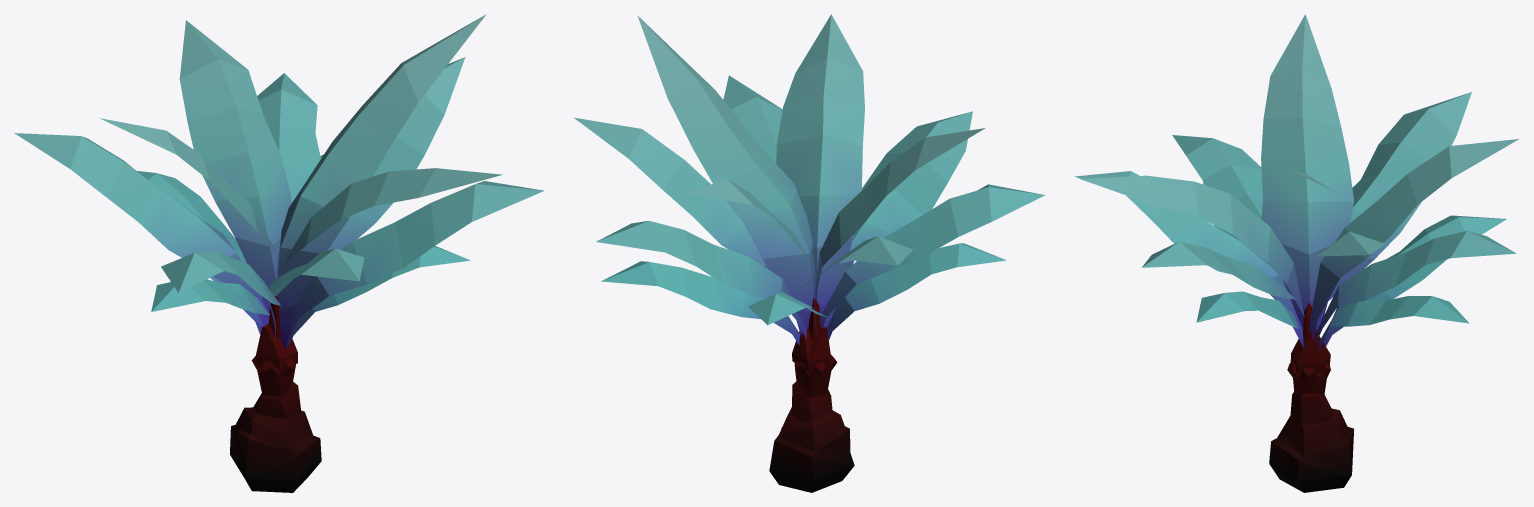
File: SM_Env_Bush_Palm_02.glb
3 views of the same model, side by side, from view 1: azimuth 30°, elevation 25°; view 2: azimuth 150°, elevation 25°; view 3: azimuth 270°, elevation 25° (orthographic). The views are drawn at different scales.
Parts seen in each view (by area): view 1: SM_Env_Bush_Palm_02_LOD0; view 2: SM_Env_Bush_Palm_02_LOD0; view 3: SM_Env_Bush_Palm_02_LOD0.
Part boxes in pixels (box(x1,y1,x2,y2)): SM_Env_Bush_Palm_02_LOD0: box(14, 14, 544, 492); SM_Env_Bush_Palm_02_LOD0: box(574, 14, 1045, 492); SM_Env_Bush_Palm_02_LOD0: box(1074, 14, 1518, 492).
Size of what is drawn, in the model's own units: 3.52 by 3.66 by 3.62.
